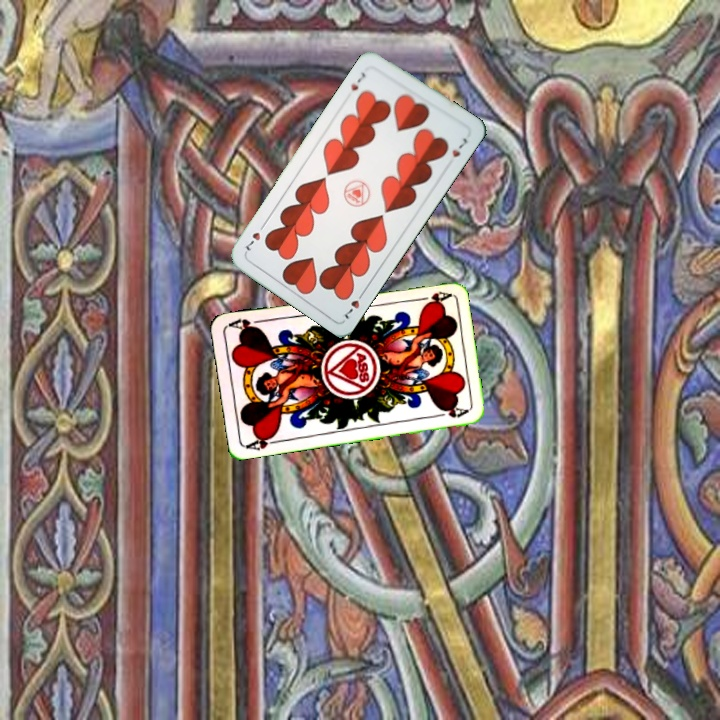H7: (340, 286, 368, 322), (347, 68, 369, 94)
HA: (243, 430, 283, 453), (411, 287, 452, 305)
